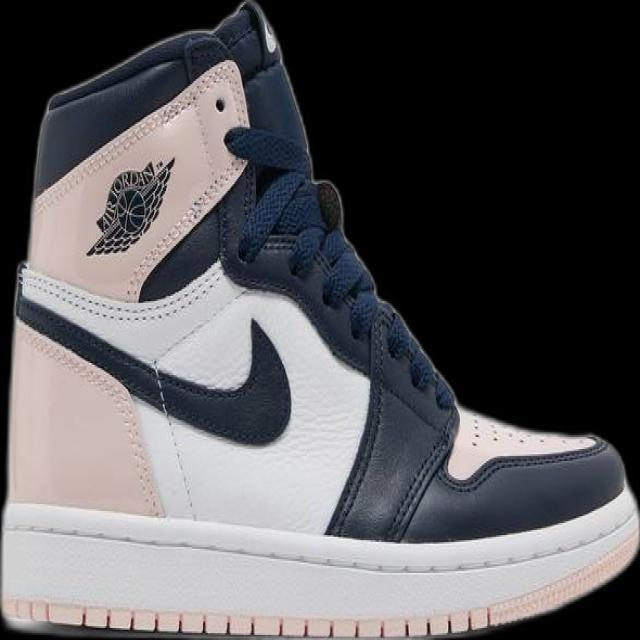J1_InsoleChar: (0, 0, 639, 639)
J1_ShoeLogo: (84, 155, 176, 257)
J1_StitchPattern: (0, 505, 638, 639), (12, 261, 291, 519), (222, 124, 381, 338), (30, 57, 237, 216), (13, 315, 165, 517), (0, 596, 495, 639), (122, 155, 247, 301), (441, 406, 610, 492), (15, 260, 227, 324), (144, 358, 202, 521), (465, 409, 598, 455), (465, 412, 533, 450)
